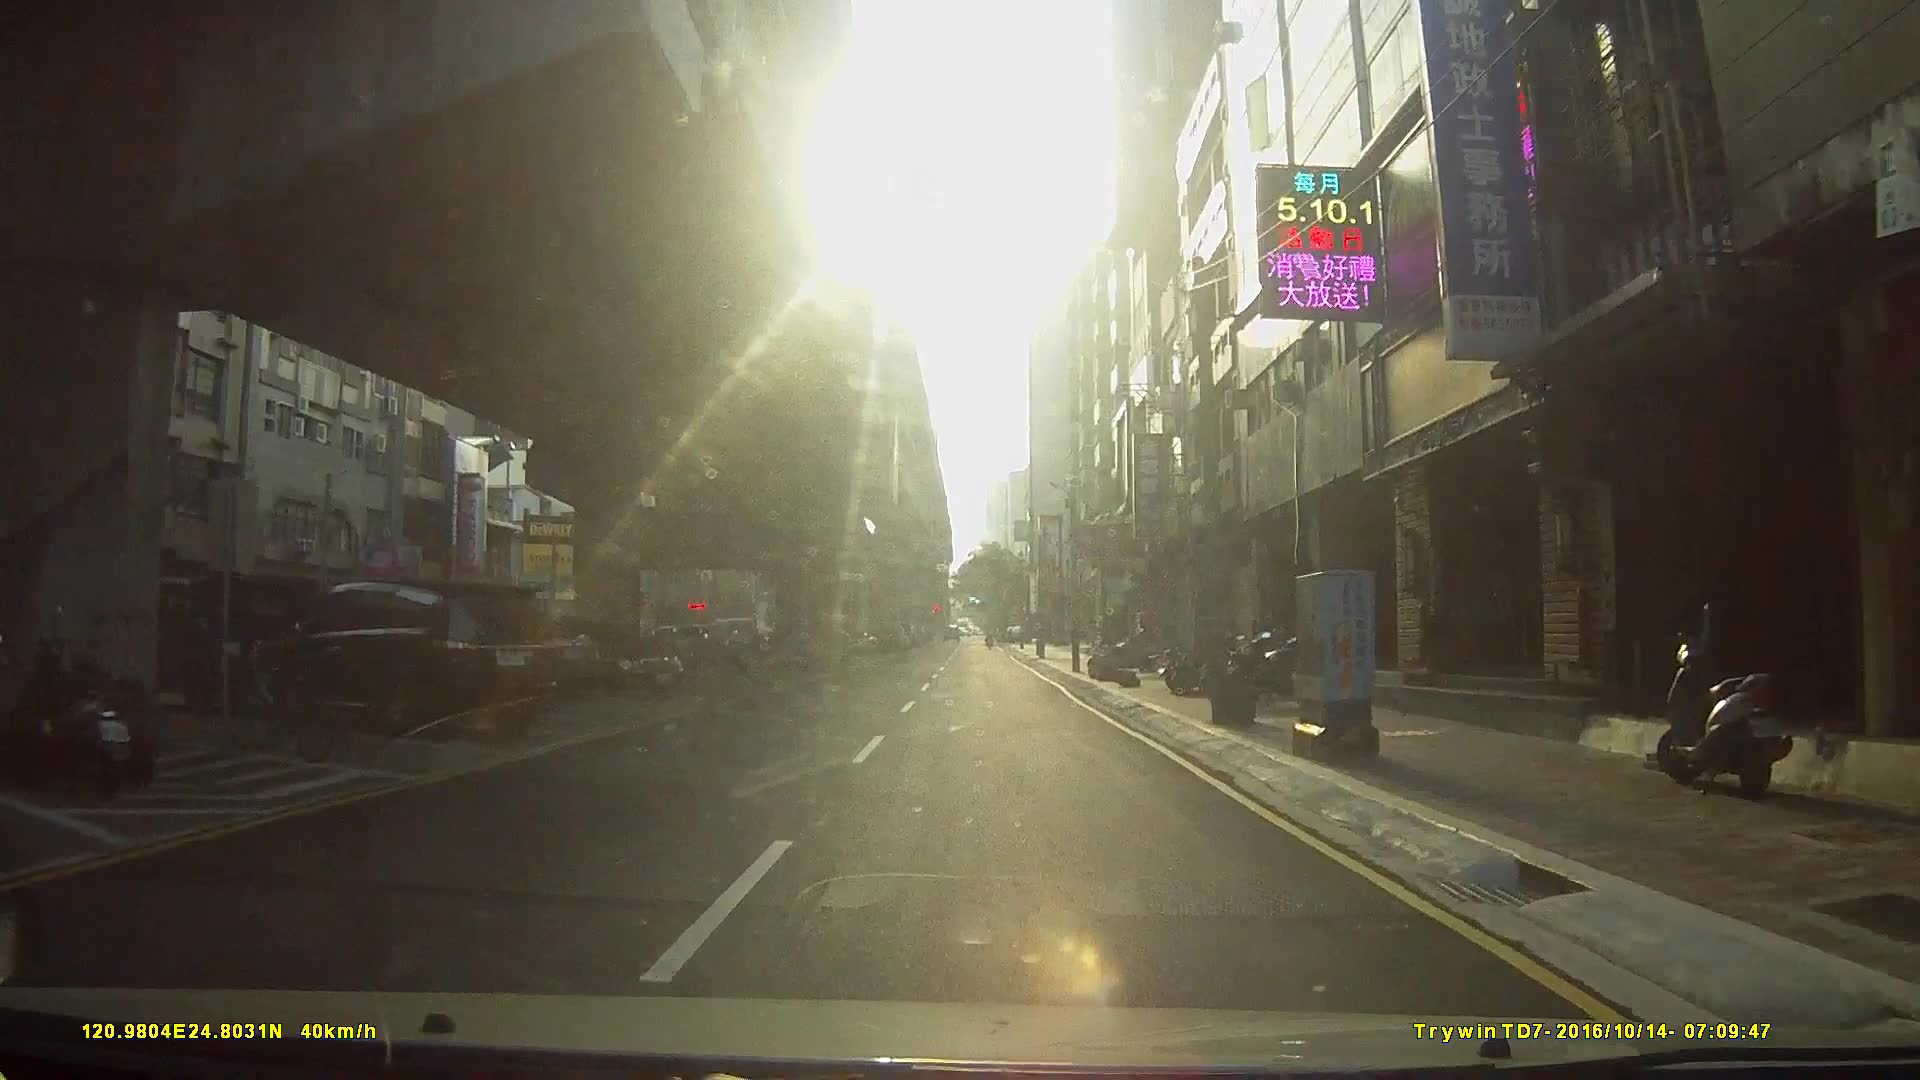vehicle: (235, 575, 551, 736), (98, 571, 302, 708), (555, 620, 682, 695)
